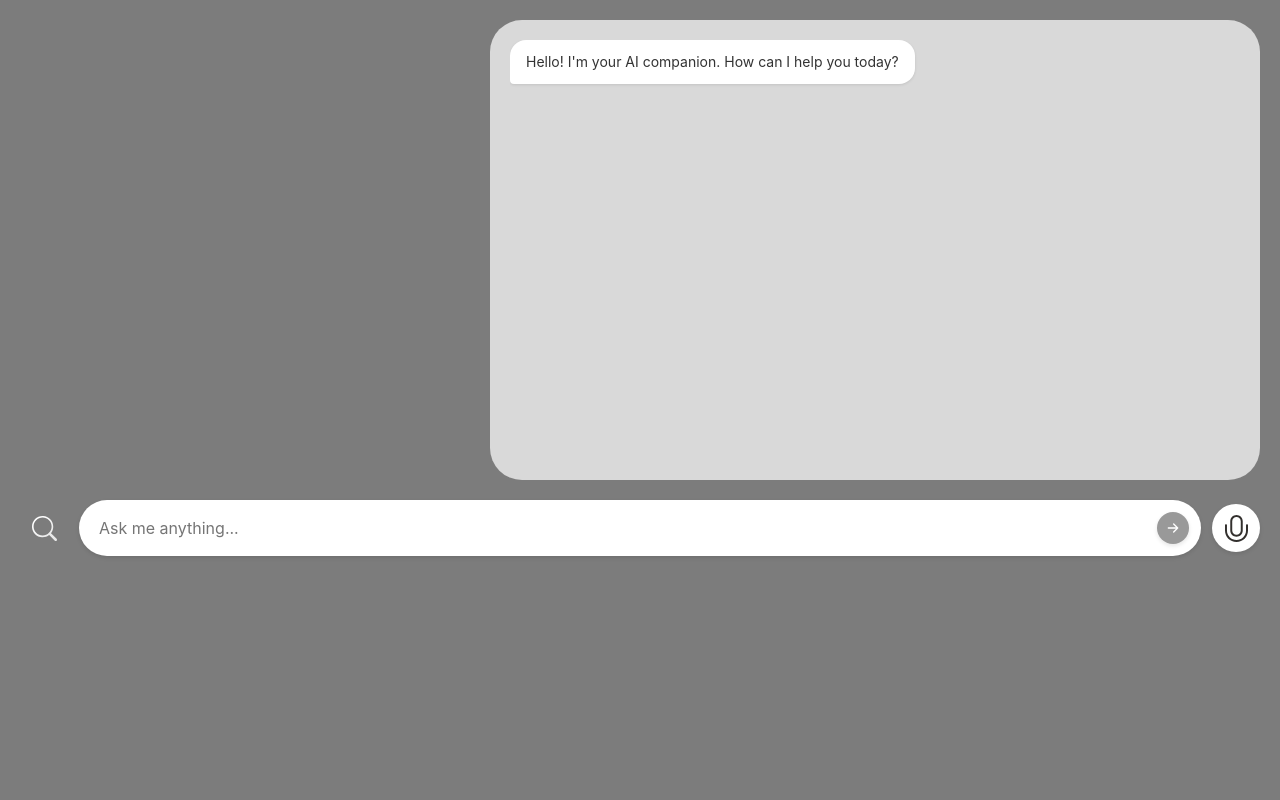
Scenario: chat deadline aborts after sixty seconds and ignores a late response
Type "My question" into the field.
click(640, 528); type("My question")  # box [79,500,1201,556]
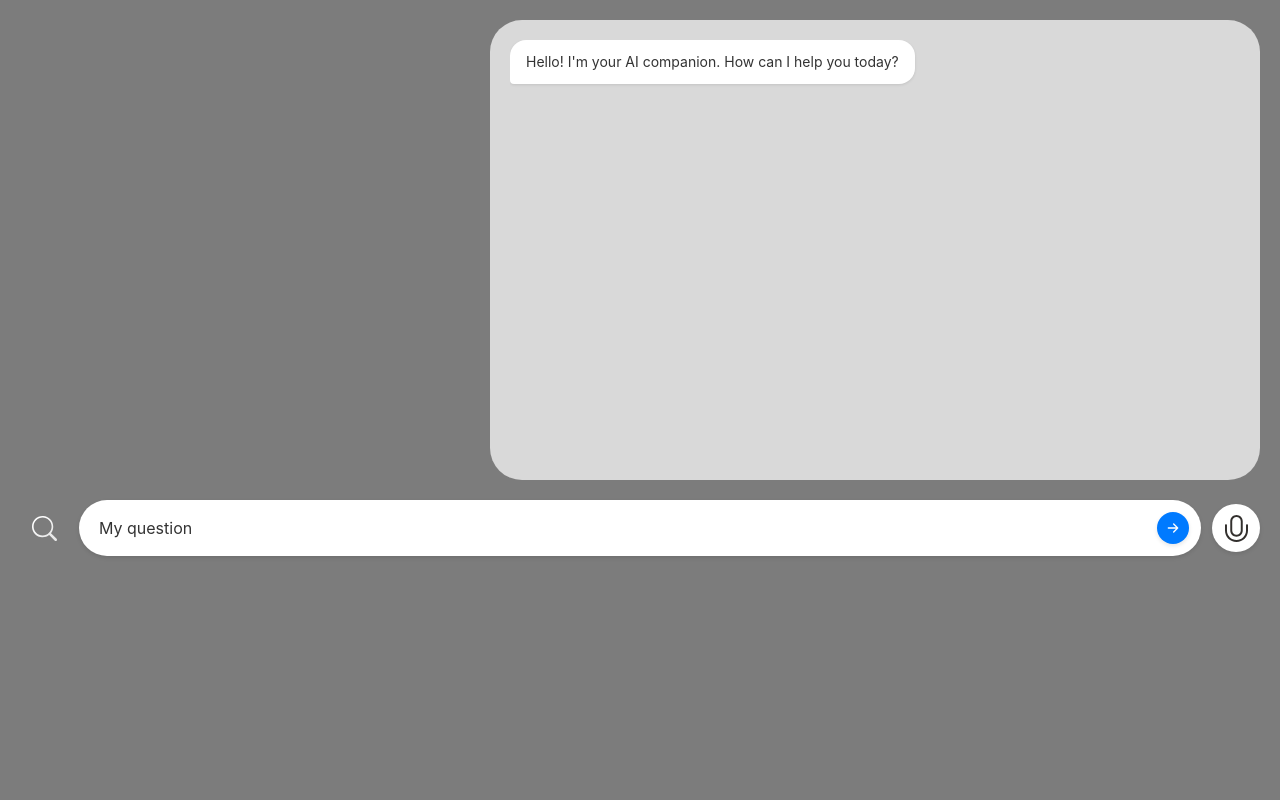
Click the button named "Send message".
click(1173, 528)  # box [1157,512,1189,544]
Wait 60000 ms
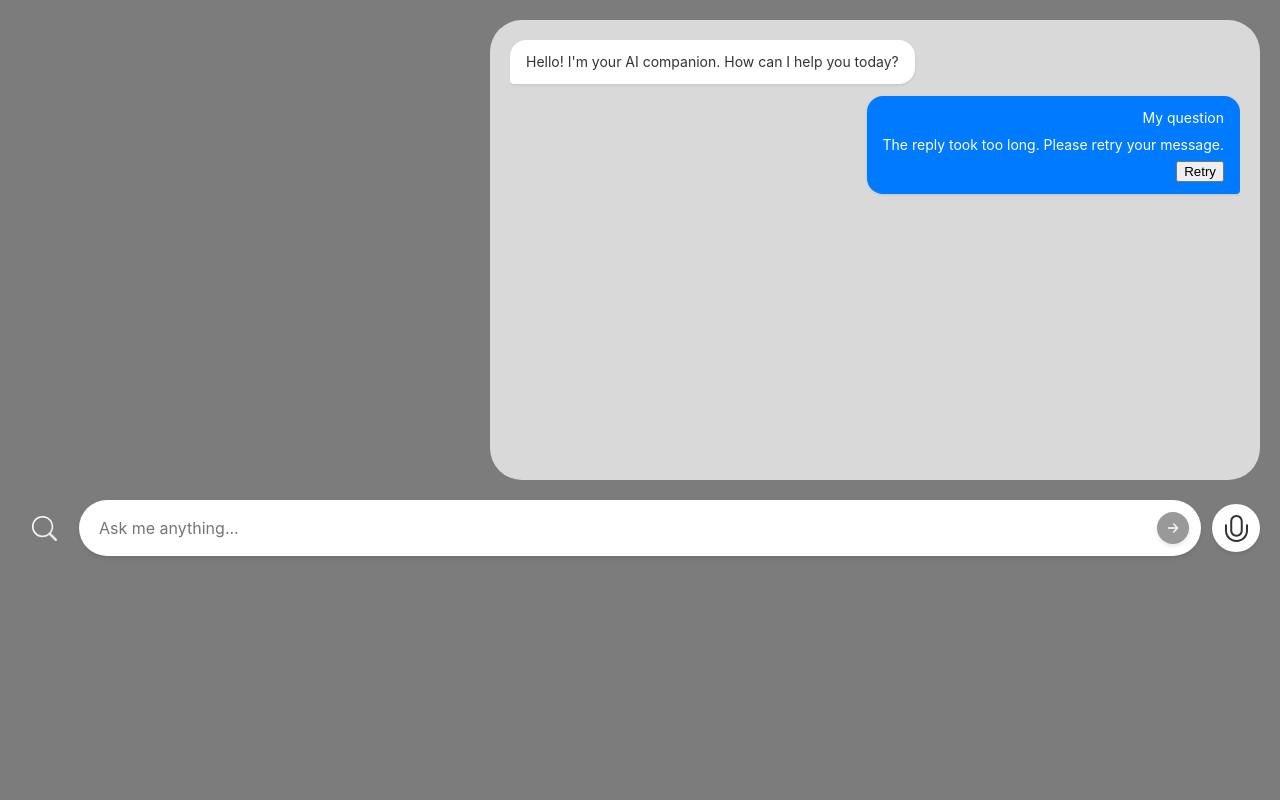
Result: the message shows "too long" at [882,136,1224,153]
